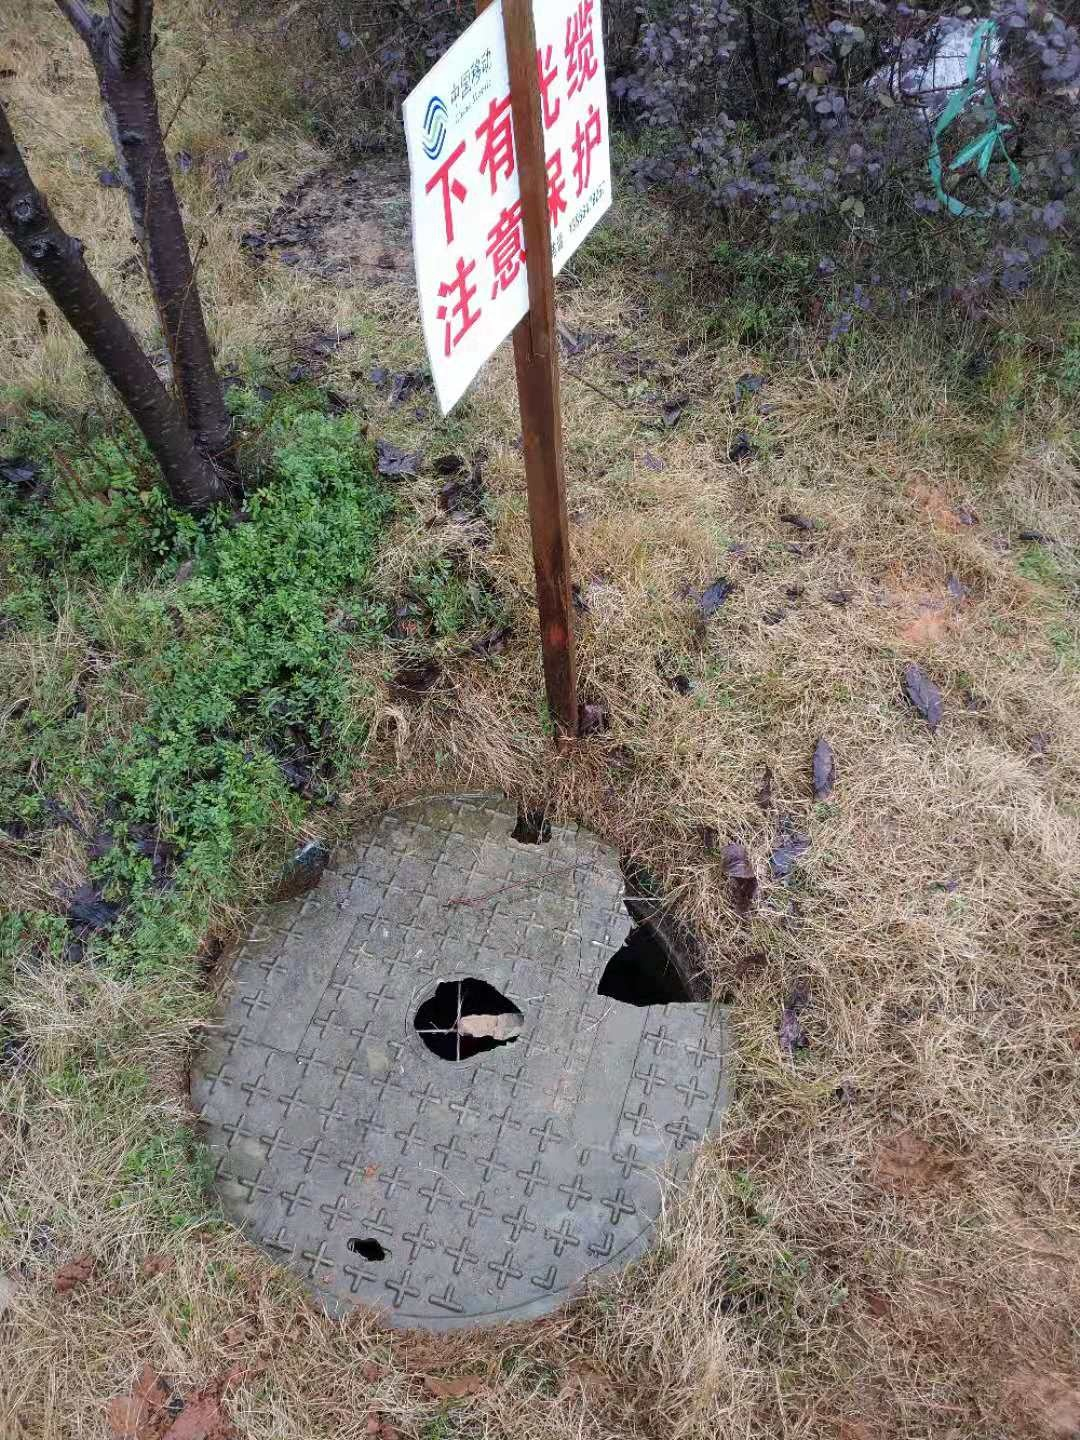broke: (183, 785, 735, 1328)
